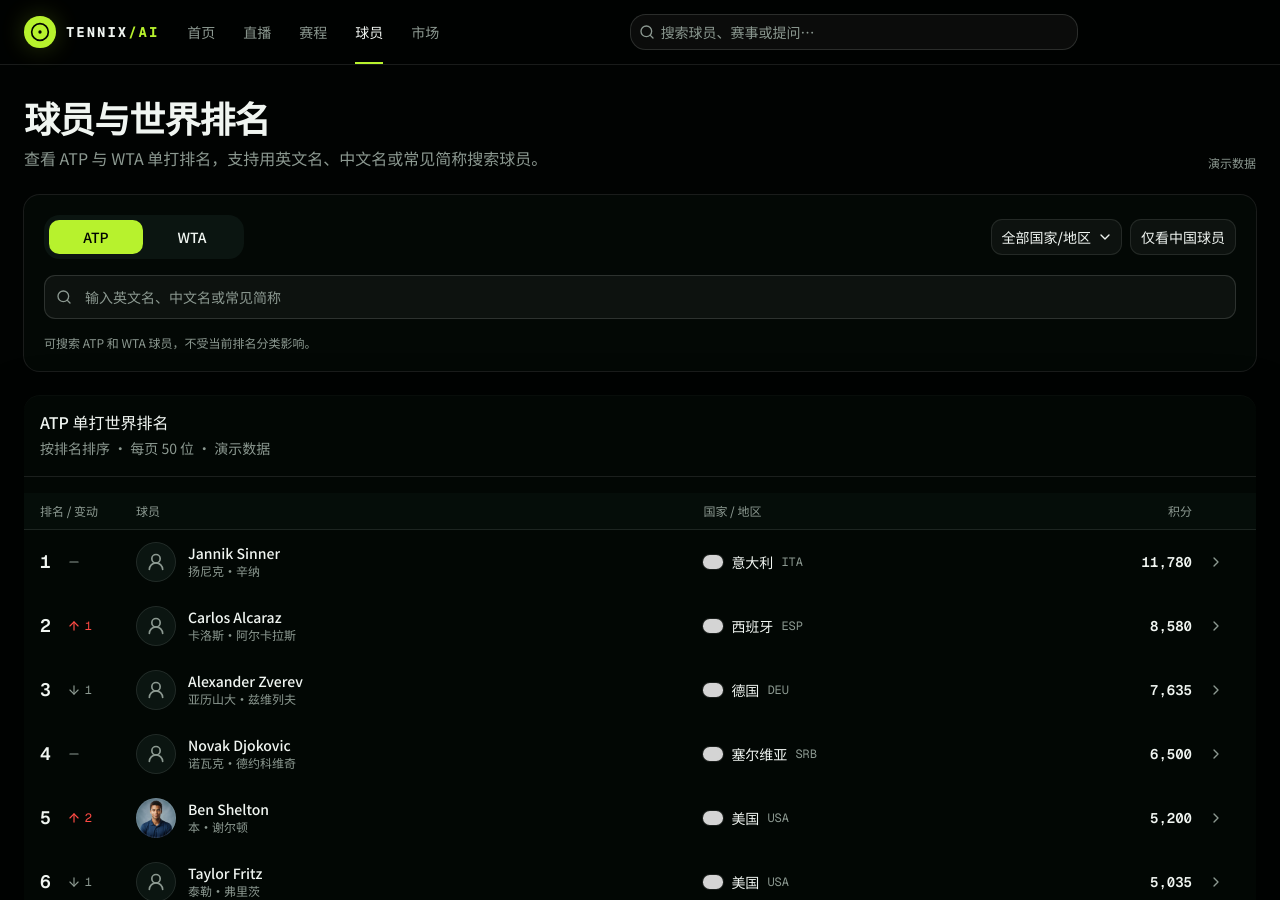
Test: PlayersPage rankings mode › filters to Chinese players with the quick filter
This screenshot has width=1280, height=900.
Click the button "仅看中国球员" at (1183,237), box x1=1130 y1=219 x2=1236 y2=255
(page scrolled)
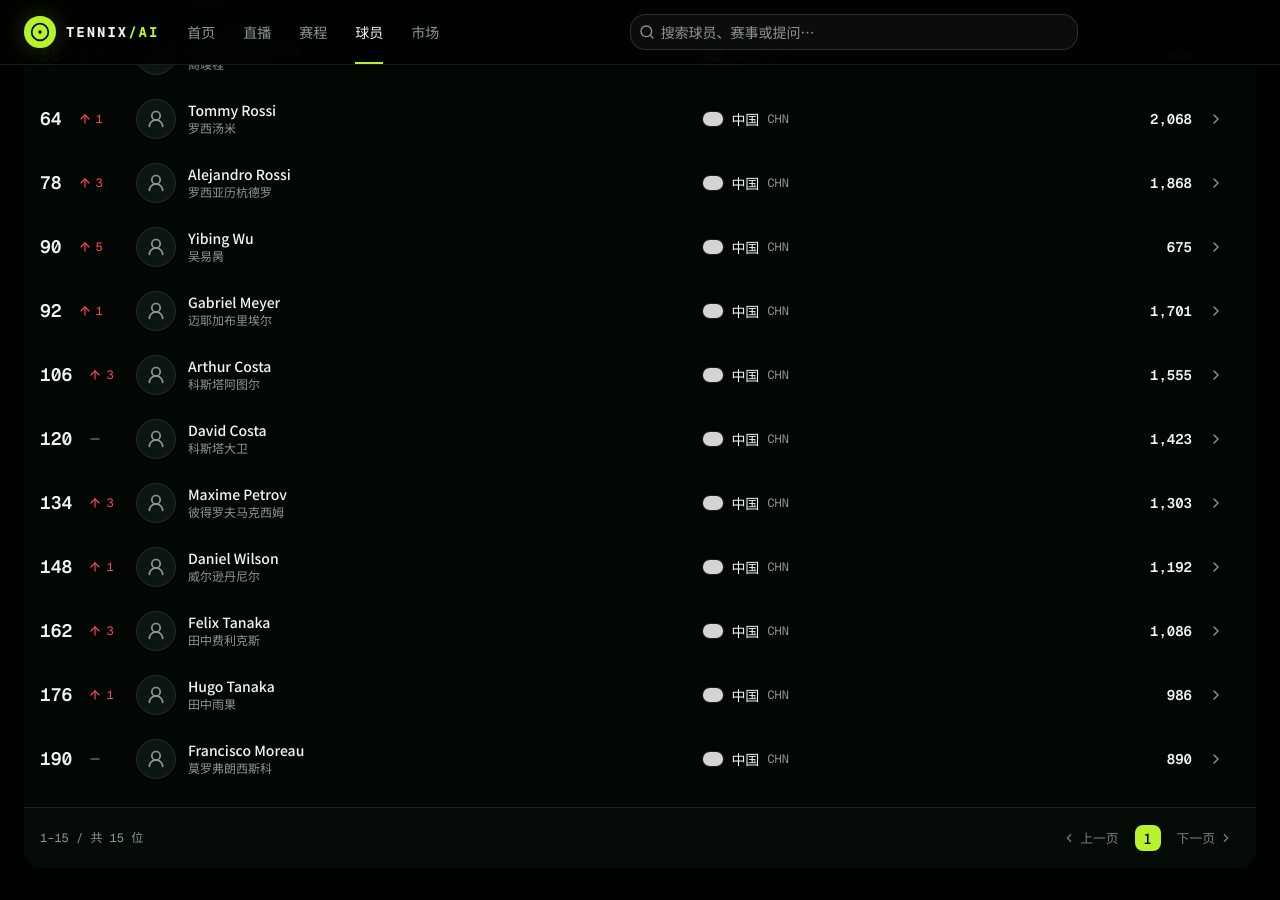
Now the text "CHN" in the row of "2,068" is shown, box x1=767 y1=111 x2=789 y2=127
Now the text "CHN" in the row of "1,868" is shown, box x1=767 y1=175 x2=789 y2=191
Now the text "CHN" in the row of "675" is shown, box x1=767 y1=239 x2=789 y2=255
